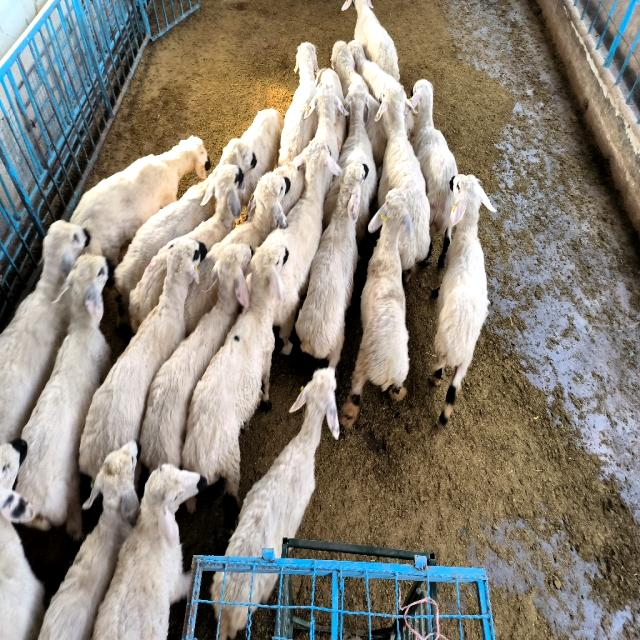sheep: (182, 230, 288, 519), (79, 238, 205, 478), (16, 255, 110, 540), (140, 243, 251, 471), (115, 138, 256, 304), (226, 367, 339, 557), (92, 463, 206, 638), (0, 220, 89, 444), (39, 442, 139, 638), (70, 137, 210, 264), (340, 190, 414, 428), (265, 137, 340, 354), (432, 175, 496, 424), (295, 163, 369, 367), (378, 82, 430, 272), (411, 78, 458, 268), (0, 438, 44, 638), (339, 78, 378, 238), (278, 42, 319, 167), (185, 165, 245, 250), (341, 0, 400, 81), (241, 108, 284, 201), (348, 42, 394, 102), (331, 42, 360, 96), (324, 182, 340, 228)
